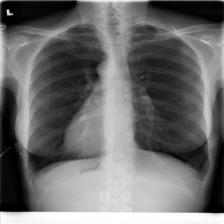normal: (23, 21, 216, 189)
